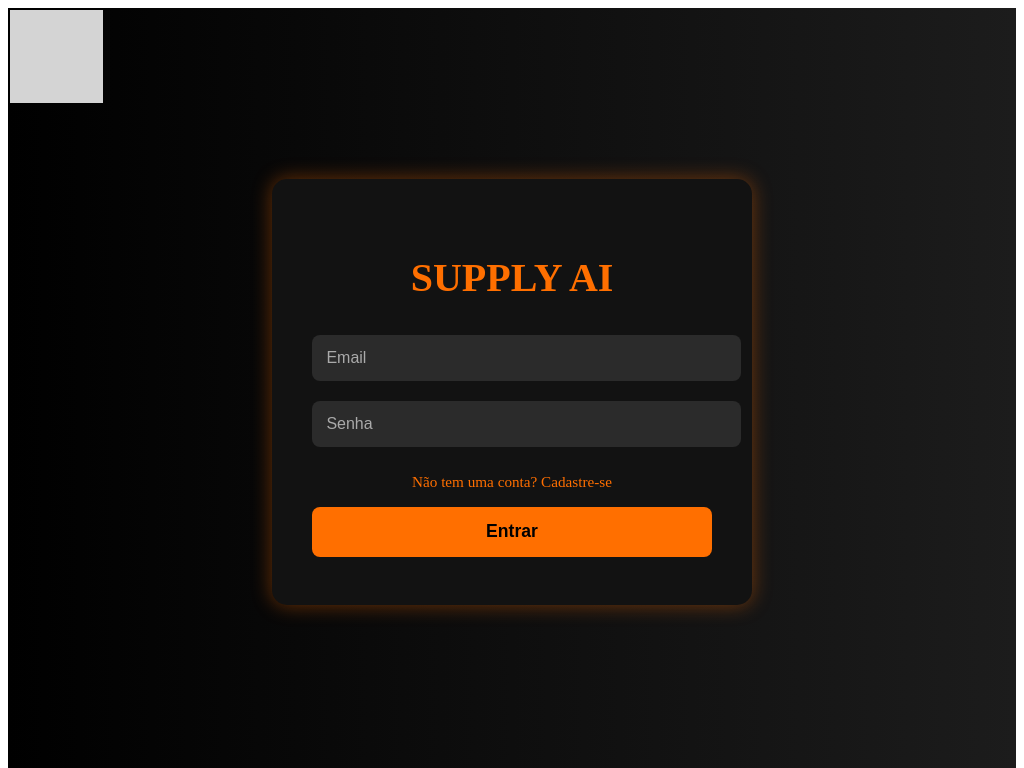
Login.vue › exibe mensagem de erro corretamente
Type "teste@example.com" into the field with placeholder "Email".
click(526, 358); type("teste@example.com")  # box [312,335,741,381]
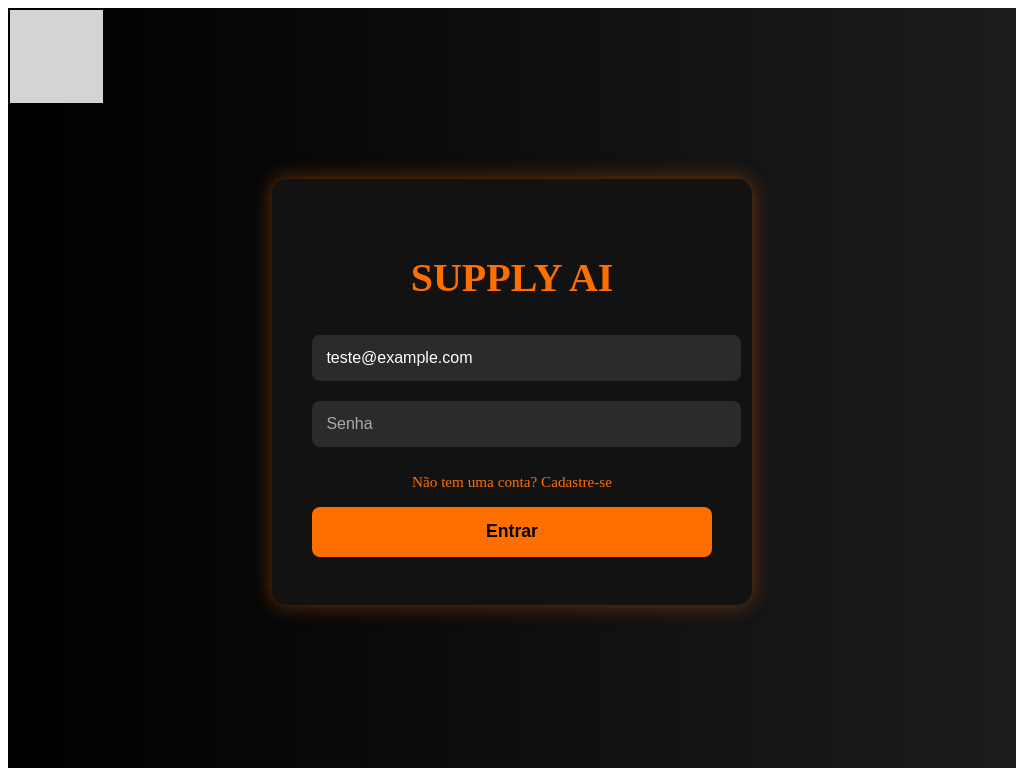
Type "senhaerrada" into the password field with placeholder "Senha".
click(526, 424); type("senhaerrada")  # box [312,401,741,447]
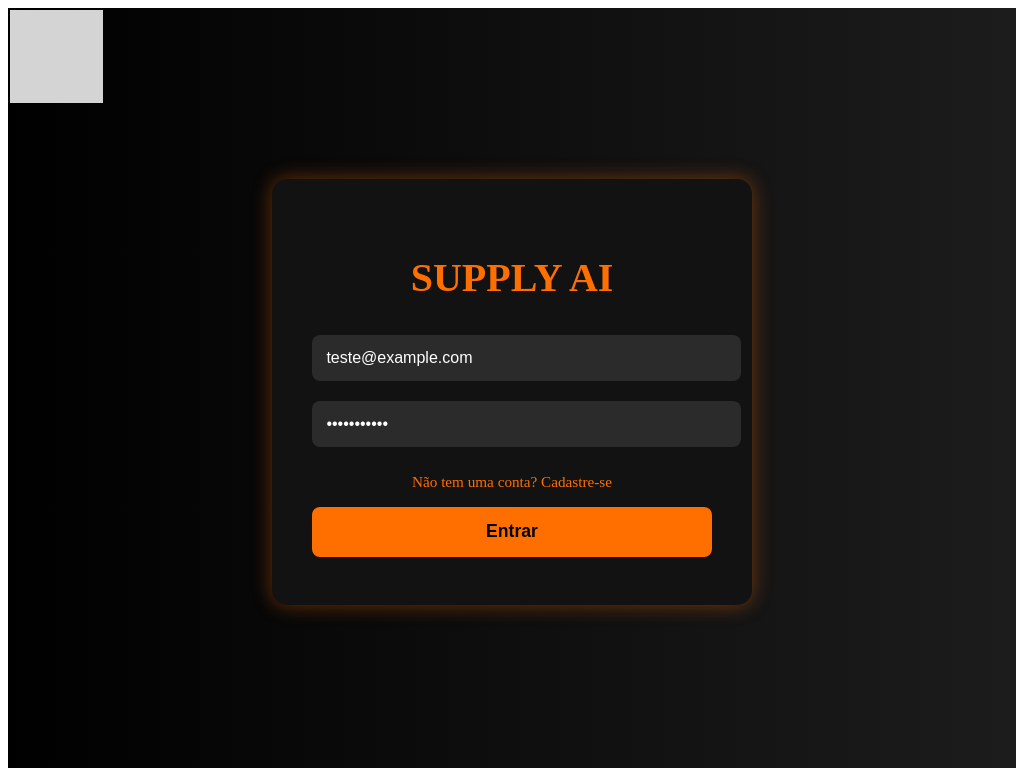
Submit the form, box [312,325,712,557]
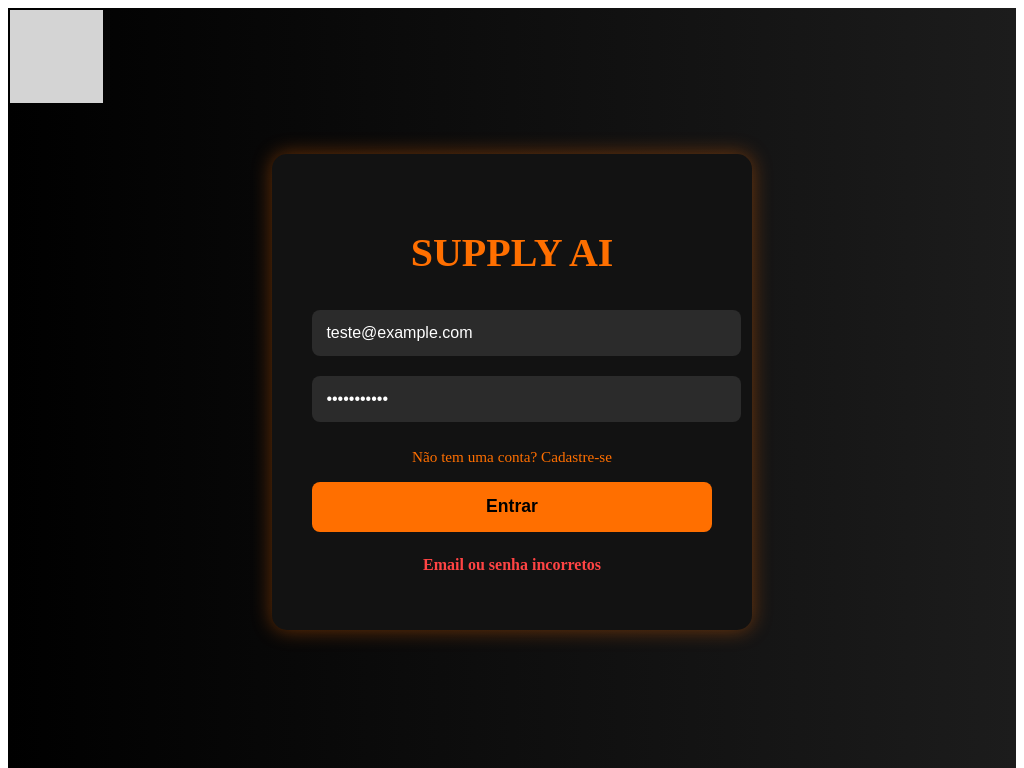
Expected: the text with class "erro" reads "Email ou senha incorretos", [423,556,601,573]
